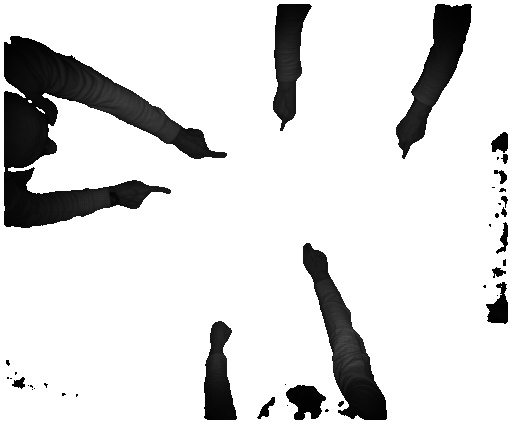fist: (208, 320, 231, 349)
hand: (114, 179, 172, 215), (392, 114, 431, 159), (177, 129, 231, 159), (296, 240, 331, 281), (272, 89, 295, 135)
